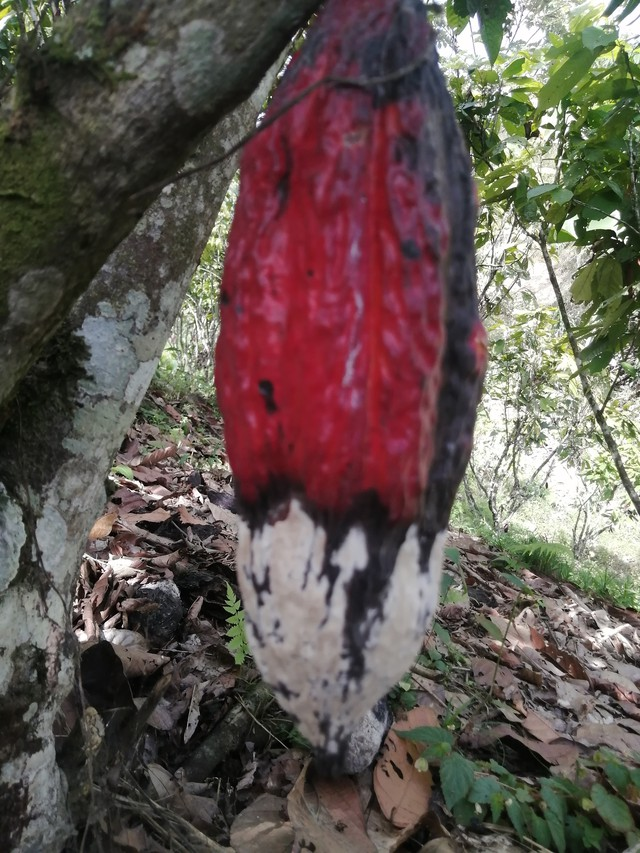moniliophthora roreri: (188, 0, 509, 788)
